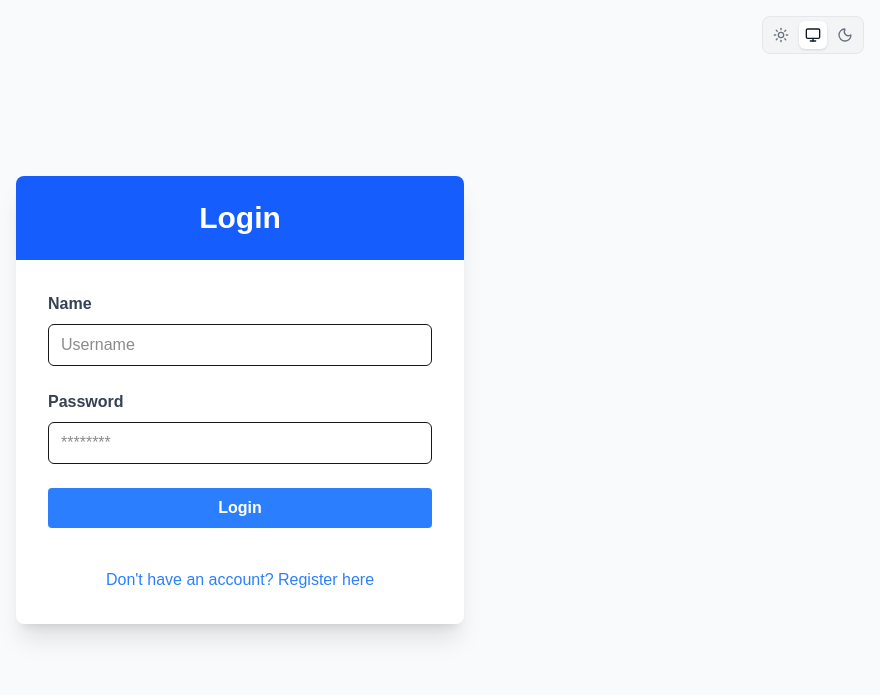
Test: Authentication Flow › should show an error for invalid login
The width and height of the screenshot is (880, 695).
Type "invaliduser" into the field named "name" at (240, 345), box [48,324,432,366]
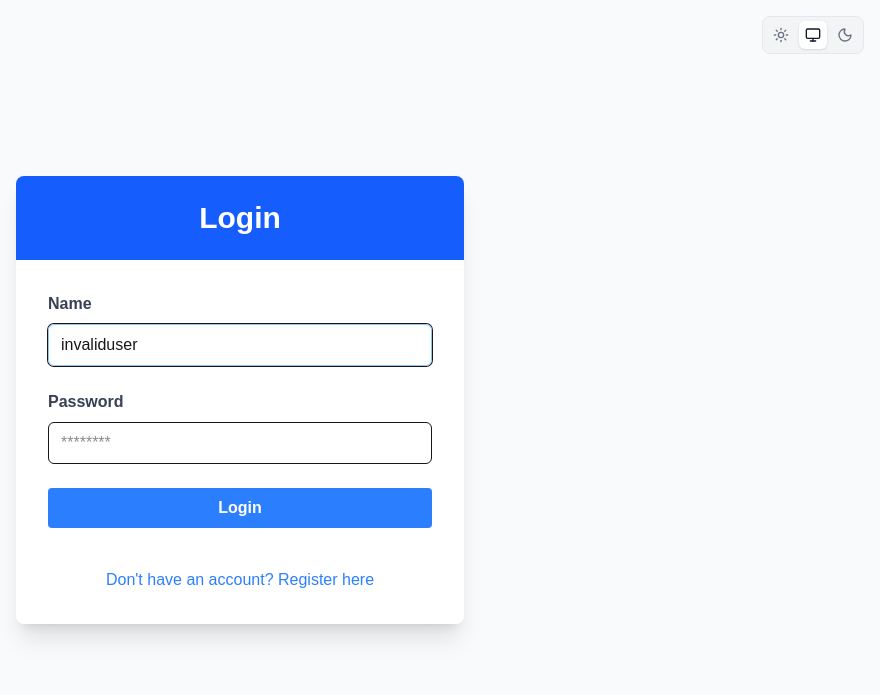
Type "wrongpass" into the password field named "password" at (240, 443), box [48,422,432,464]
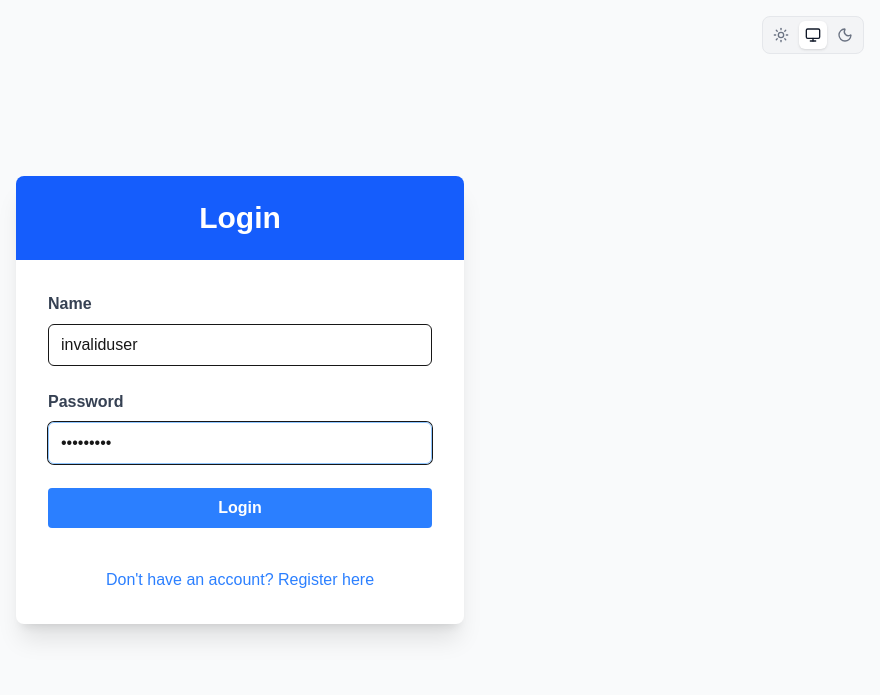
Click the submit button at (240, 508), box [48,488,432,528]
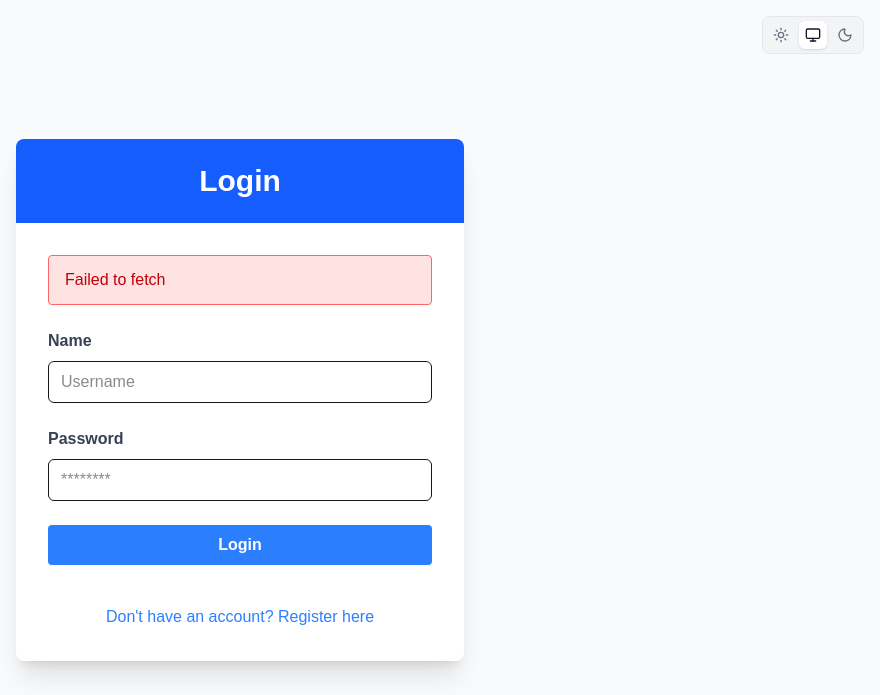
Now the message "Failed to fetch" is shown, box [48,255,432,305]
